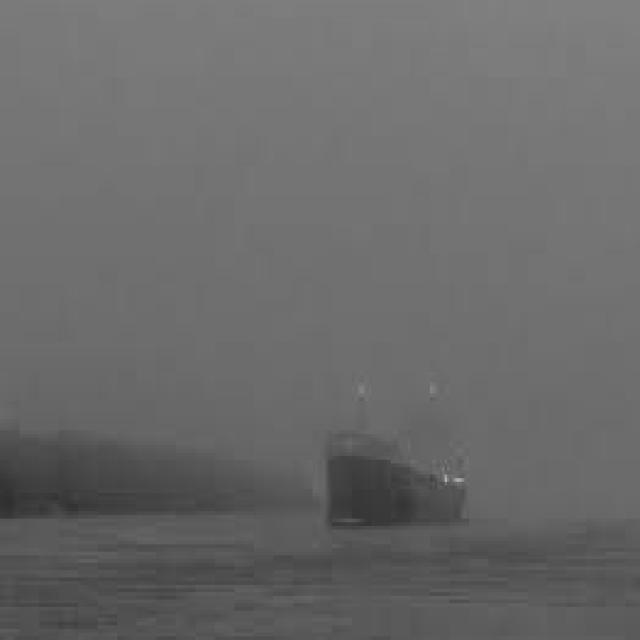cargoship: (322, 392, 474, 527)
